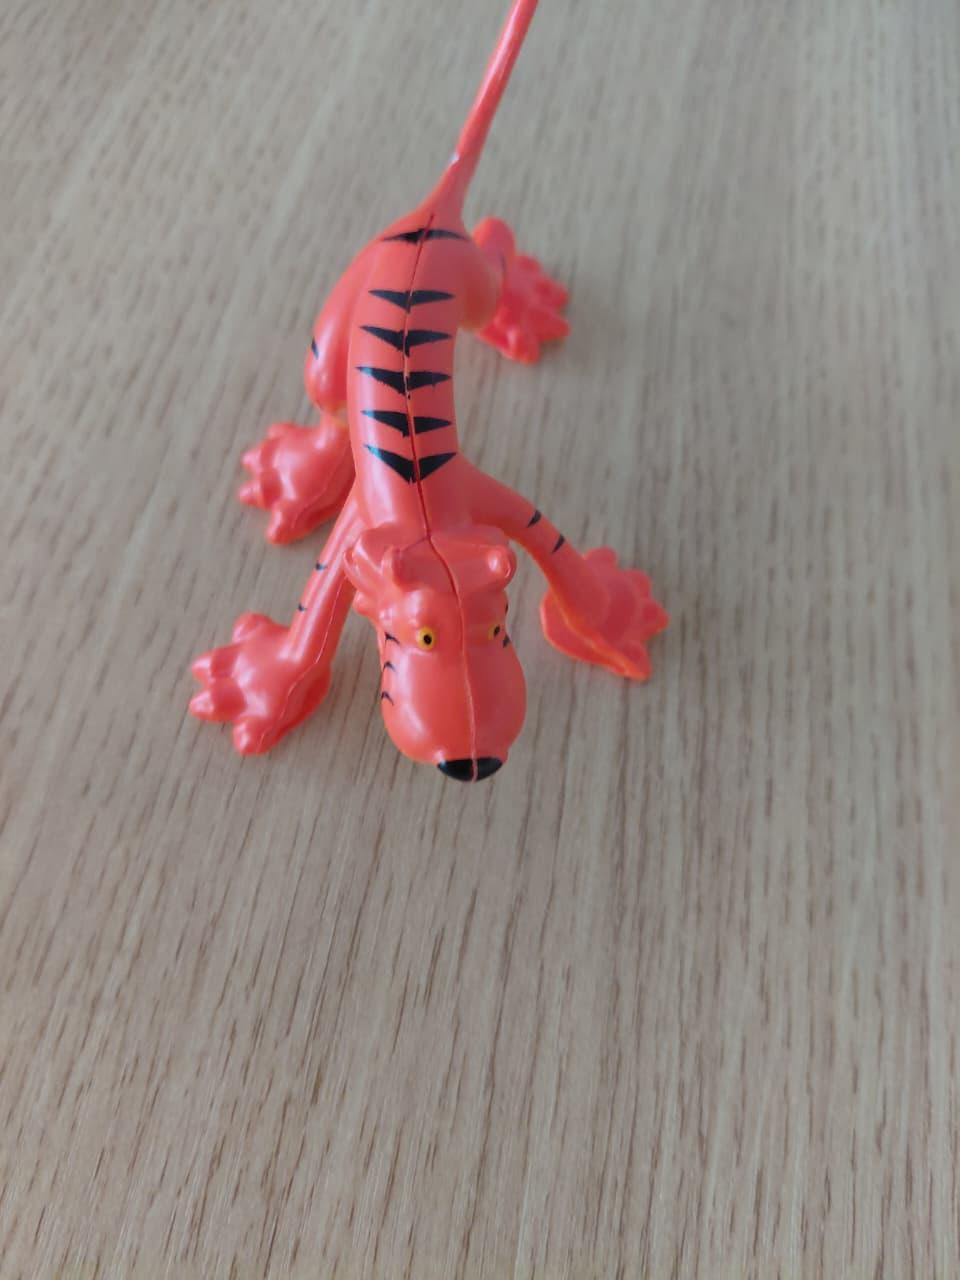tiger: (188, 0, 786, 793)
